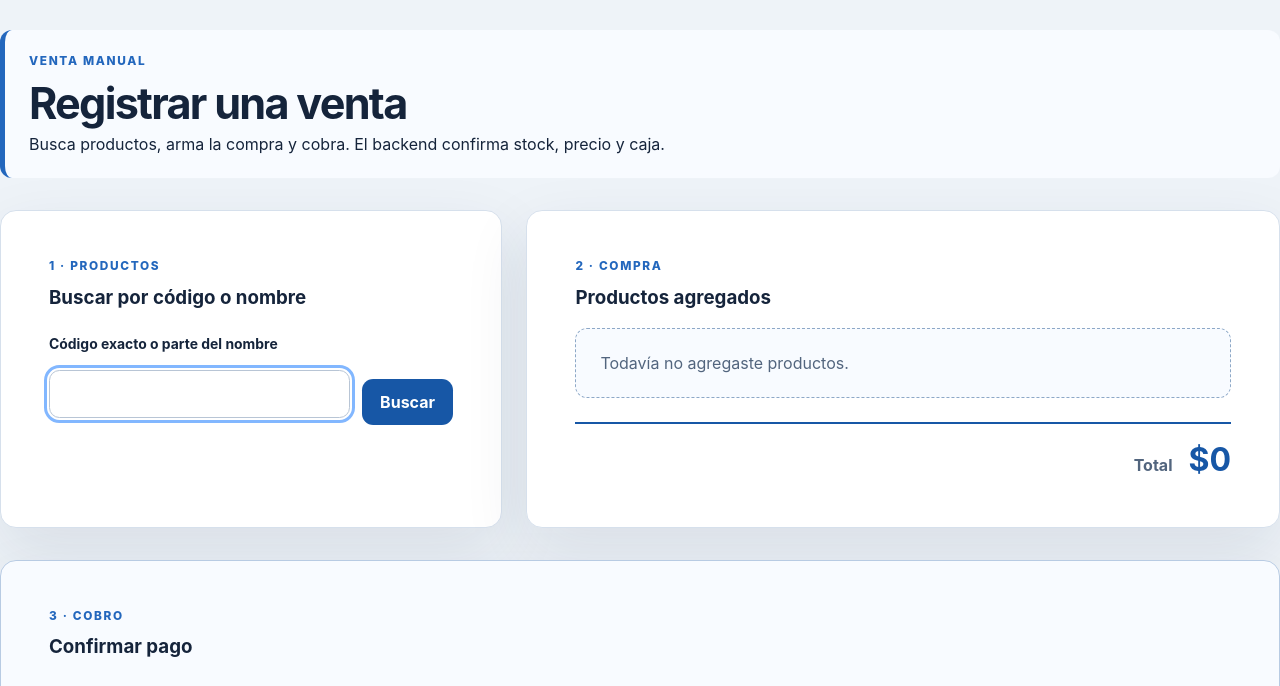
Scenario: SaleWorkspace › adds an exact code, calculates change and renders the stored receipt
Type "001" into the field labelled "Código exacto o parte del nombre" at (199, 394), box 49,370 -> 350,418
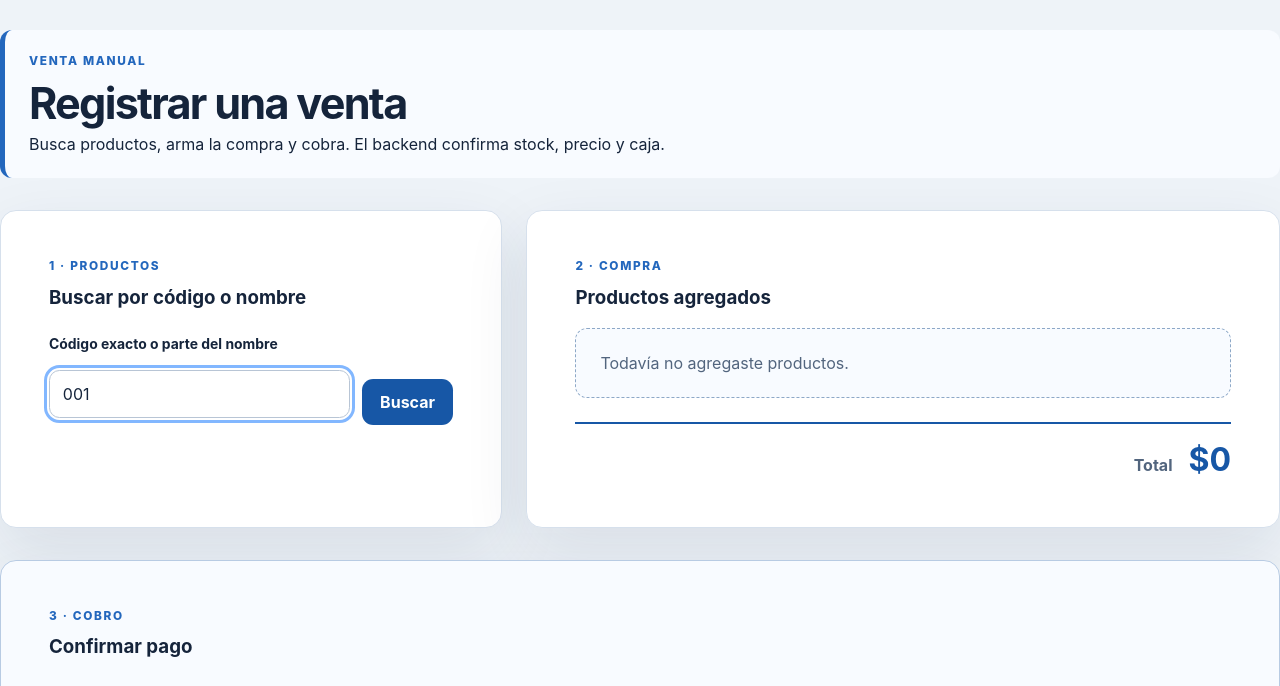
Click the button "Buscar" at (408, 402), box 362,379 -> 453,425
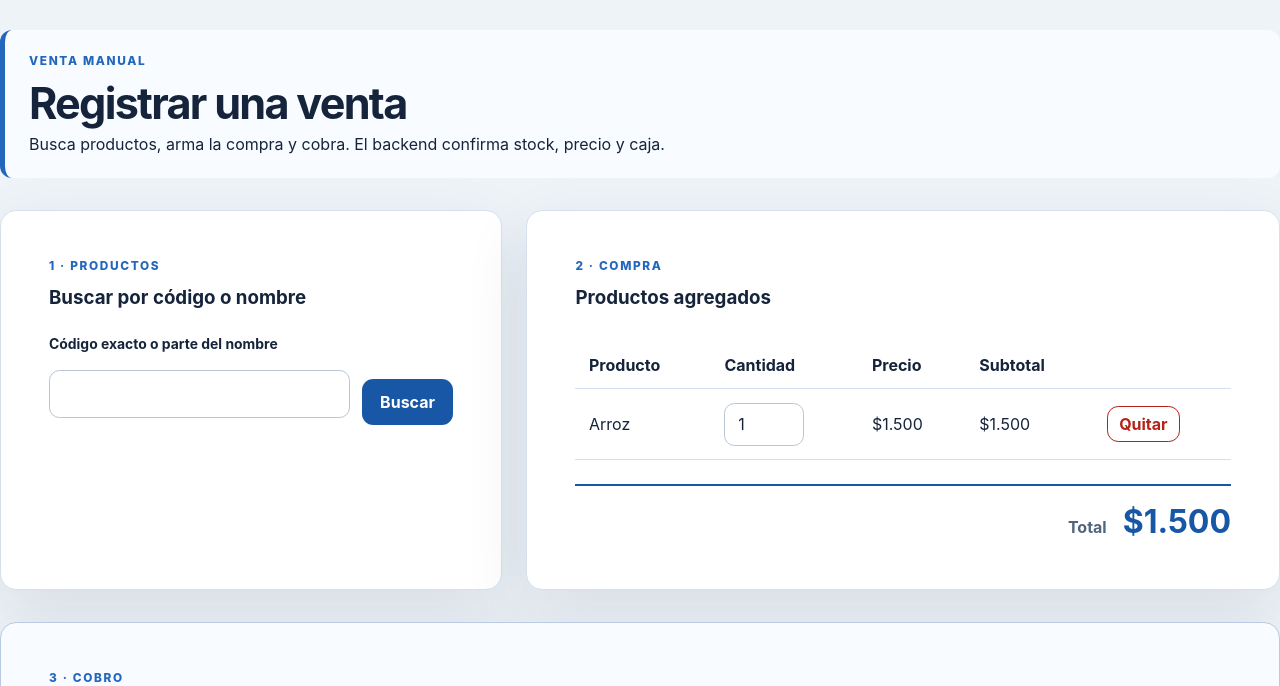
Now the text "Arroz" is shown, box 575,389 -> 711,460
Click the number field named "Cantidad de Arroz" at (764, 424), box 724,403 -> 804,446
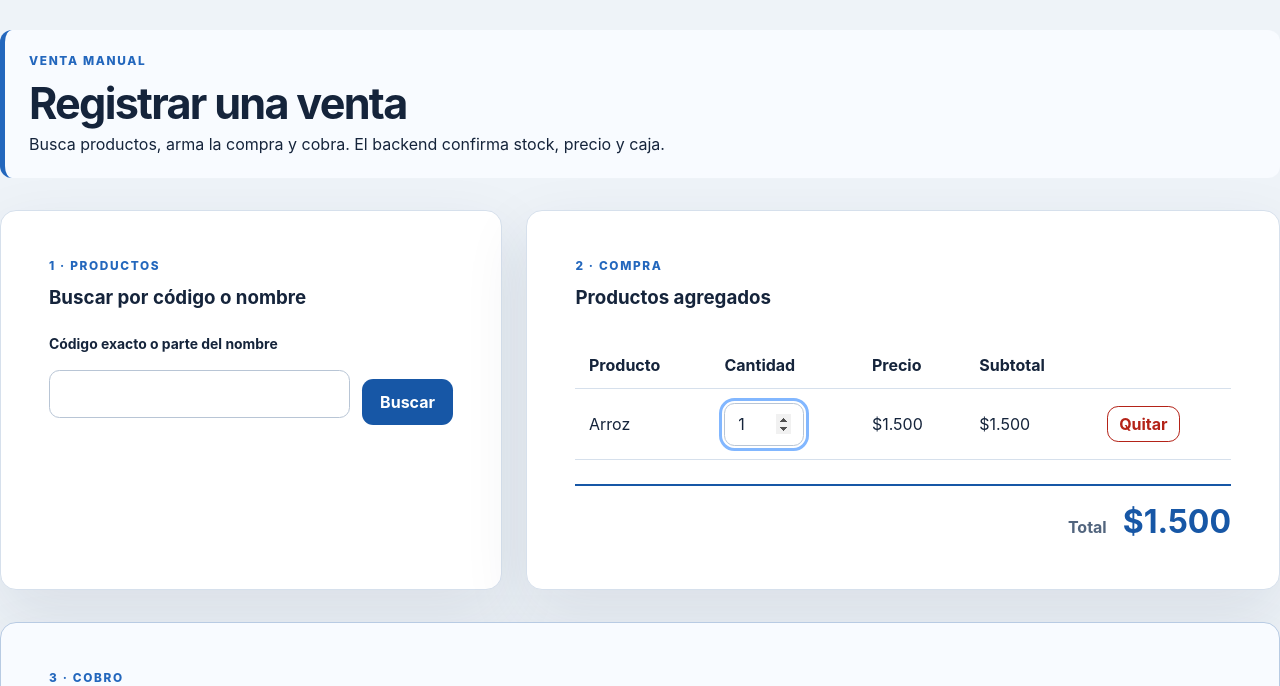
Type keys "{Control>}a{/Control}2"
(page scrolled)
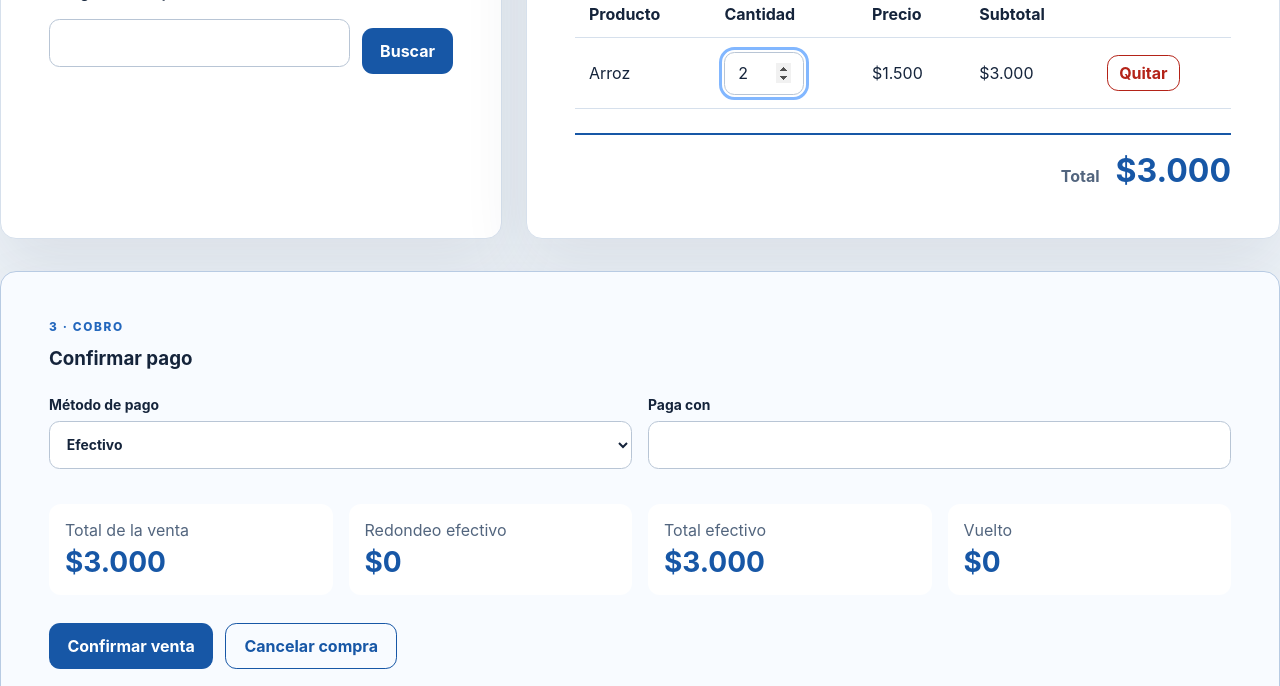
Now the text "$3.000" is shown 4 times, box 966,38 -> 1093,109; 1116,151 -> 1231,190; 65,545 -> 166,579; 664,545 -> 765,579
Type "5000" into the number field named "Efectivo recibido" at (940, 445), box 648,421 -> 1231,469
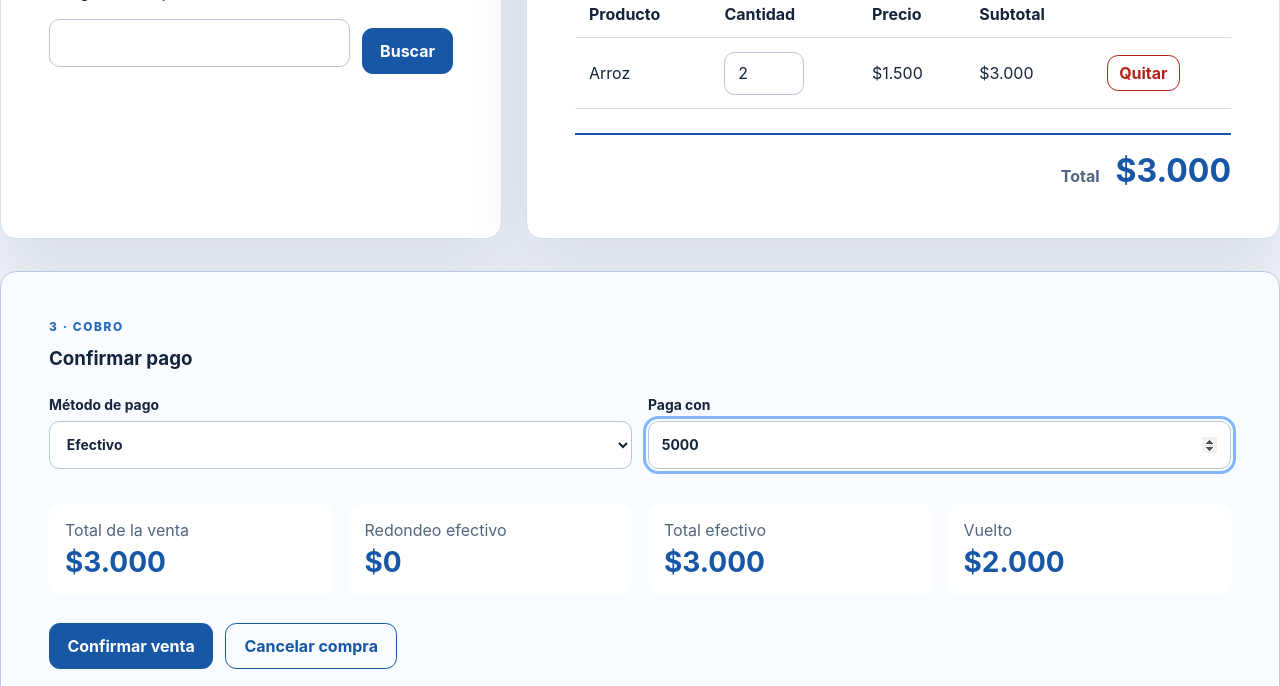
Now the text "$2.000" is shown, box 964,545 -> 1065,579
Click the button "Confirmar venta" at (131, 646), box 49,623 -> 213,669
(page scrolled)
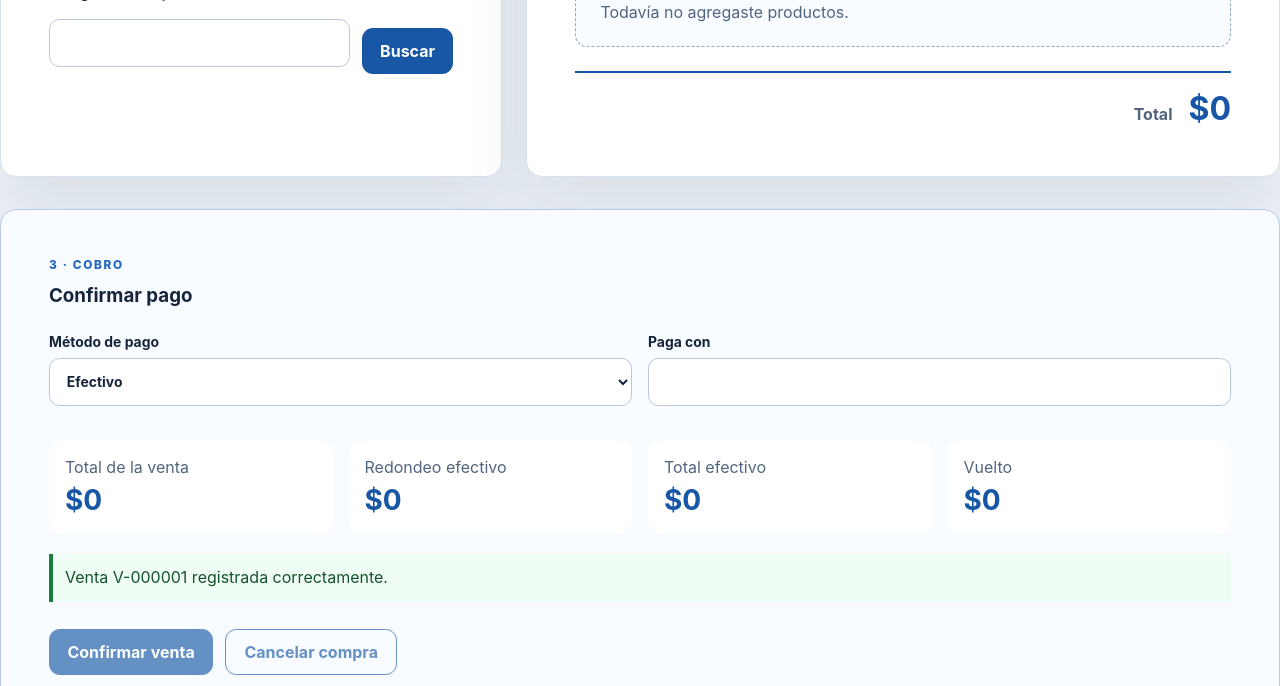
Now the text "Venta V-000001 registrada correctamente." is shown, box 49,554 -> 1231,602
